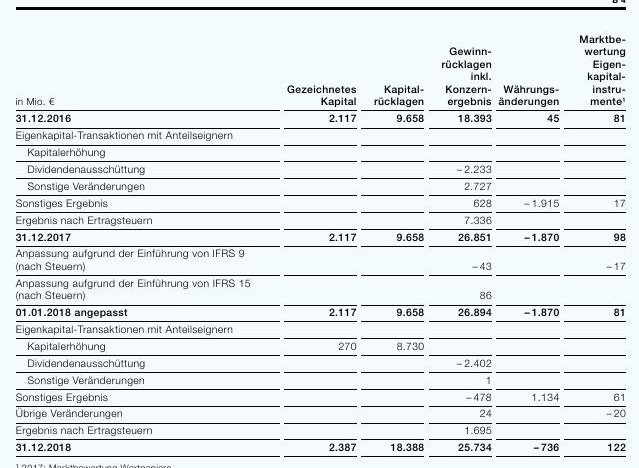table: (0, 0, 639, 468)
